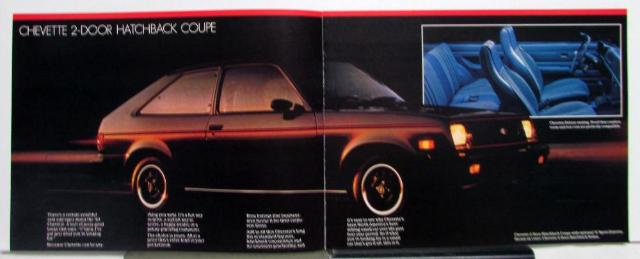chevette-1983: (88, 61, 548, 216)
